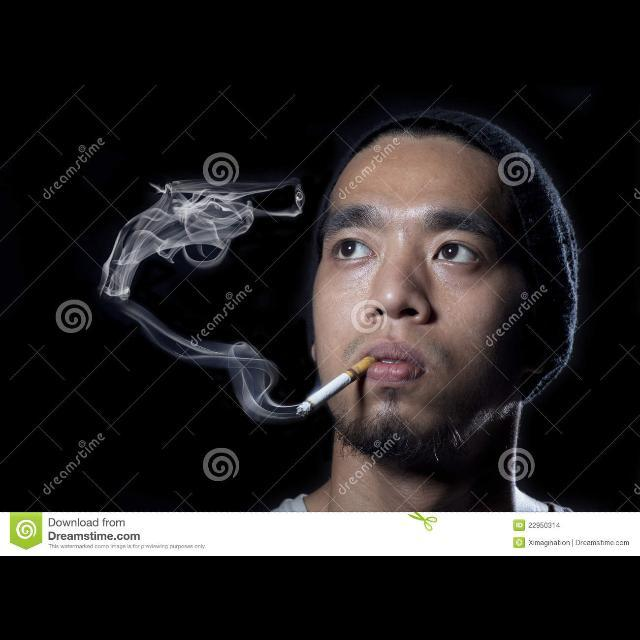rokok: (286, 348, 374, 424)
